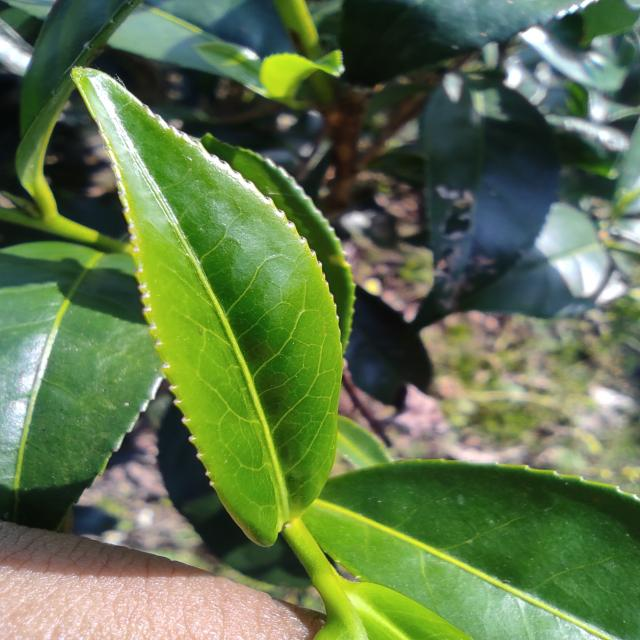Category B 2-4 days: (66, 58, 358, 613)
